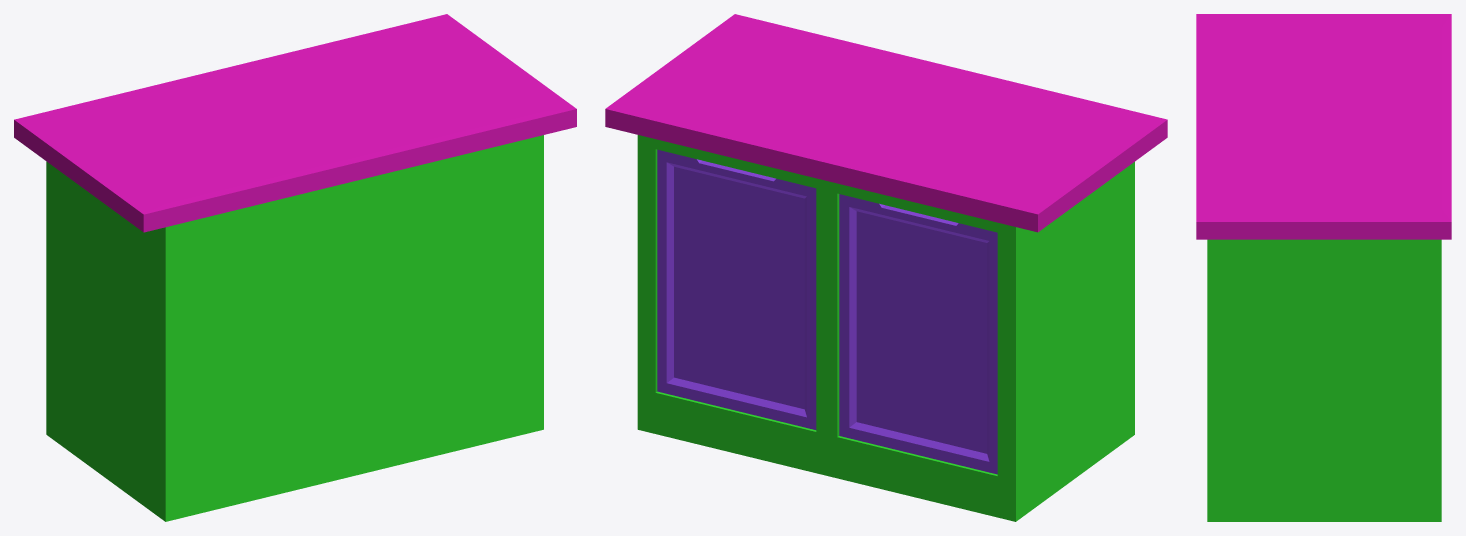
Rendered from GGJ-Cabinet-w-doors.fbx.
3 views of the same model, side by side, from view 1: azimuth 30°, elevation 25°; view 2: azimuth 150°, elevation 25°; view 3: azimuth 270°, elevation 25° (orthographic).
Visible parts, largest first — view 1: Cabinet; view 2: Cabinet, CabinetDoor1, CabinetDoor2; view 3: Cabinet.
Part boxes in pixels (x1,y1,x2,y2): Cabinet: [14, 14, 576, 521]; Cabinet: [605, 14, 1167, 521]; CabinetDoor1: [657, 149, 816, 429]; CabinetDoor2: [839, 194, 997, 474]; Cabinet: [1196, 14, 1451, 521].
Bounding box in the file's own units: 420 × 218 × 295.
